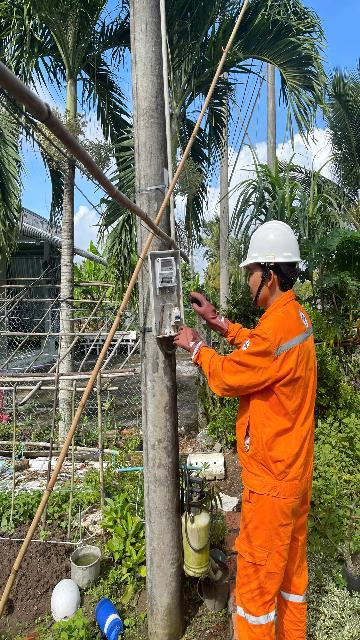gloves: (180, 283, 240, 342), (174, 315, 210, 368)
helmet: (210, 212, 323, 268)
